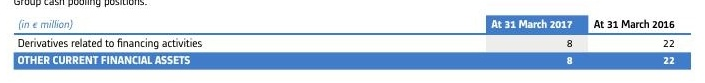table: (0, 0, 705, 83)
